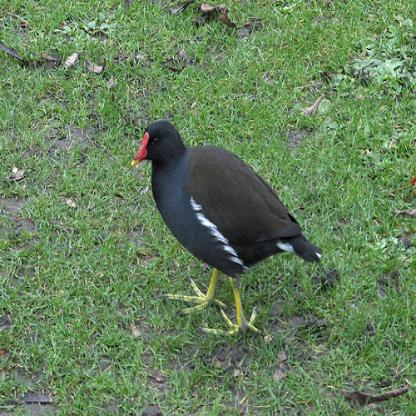bird: (130, 120, 323, 349)
